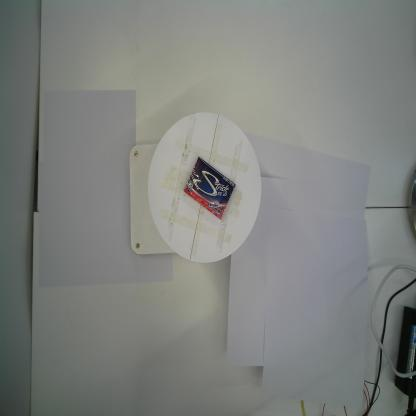Gum: (183, 156, 236, 222)
